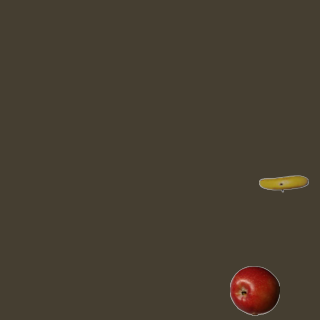Apple Braeburn: (229, 265, 279, 315)
Banana: (258, 158, 308, 208)
